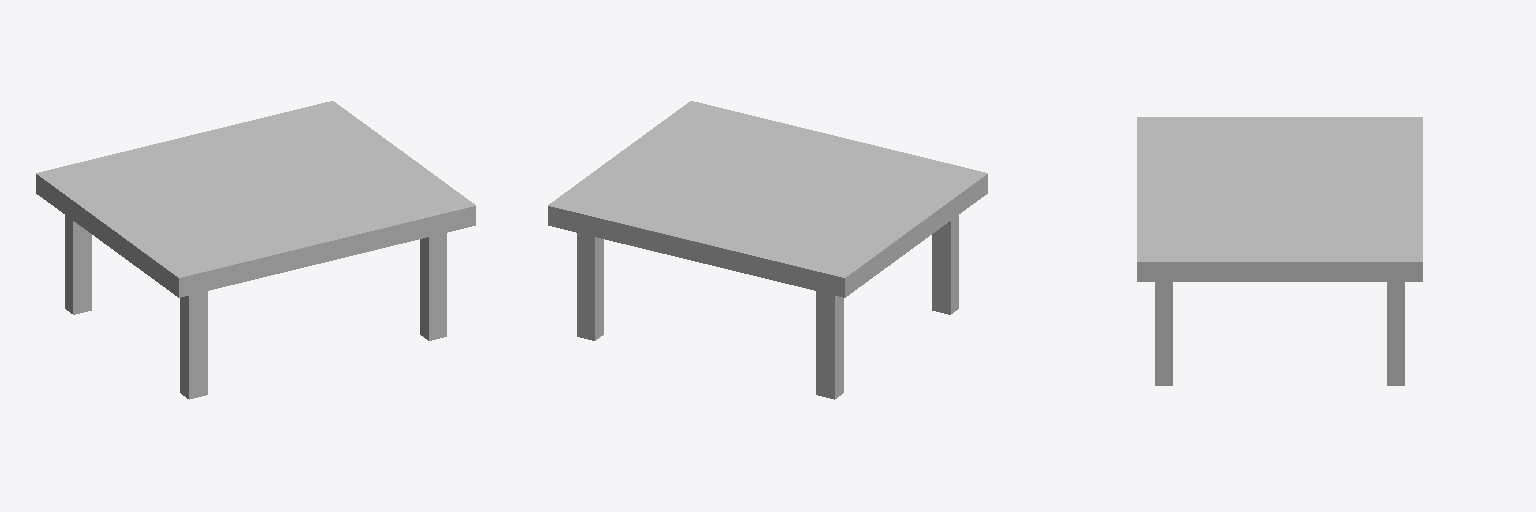
File: table.obj
3 renders of one model, left to right at view 1: azimuth 30°, elevation 25°; view 2: azimuth 150°, elevation 25°; view 3: azimuth 270°, elevation 25°, orthographic.
Parts seen in each view (by area): view 1: Cube_Cube.001; view 2: Cube_Cube.001; view 3: Cube_Cube.001.
Part boxes in pixels (left/top/right/bottom): Cube_Cube.001: left=36, top=101, right=475, bottom=399; Cube_Cube.001: left=548, top=101, right=987, bottom=399; Cube_Cube.001: left=1137, top=117, right=1422, bottom=385.
Size of the model in its own units: 15.8 by 6.76 by 13.2.